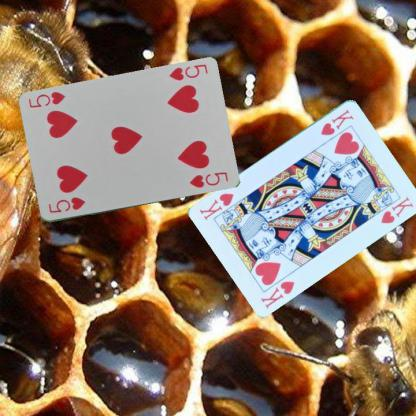5h: (166, 62, 210, 82), (45, 195, 86, 214)
Kh: (258, 278, 296, 310), (318, 107, 355, 136)
